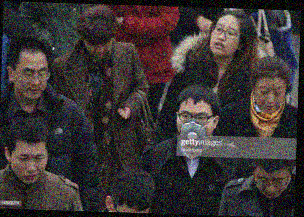with_mask: (174, 109, 215, 146)
without_mask: (10, 150, 49, 185), (13, 64, 48, 102), (208, 20, 241, 58), (253, 82, 286, 114), (254, 171, 289, 199), (84, 38, 112, 59)
